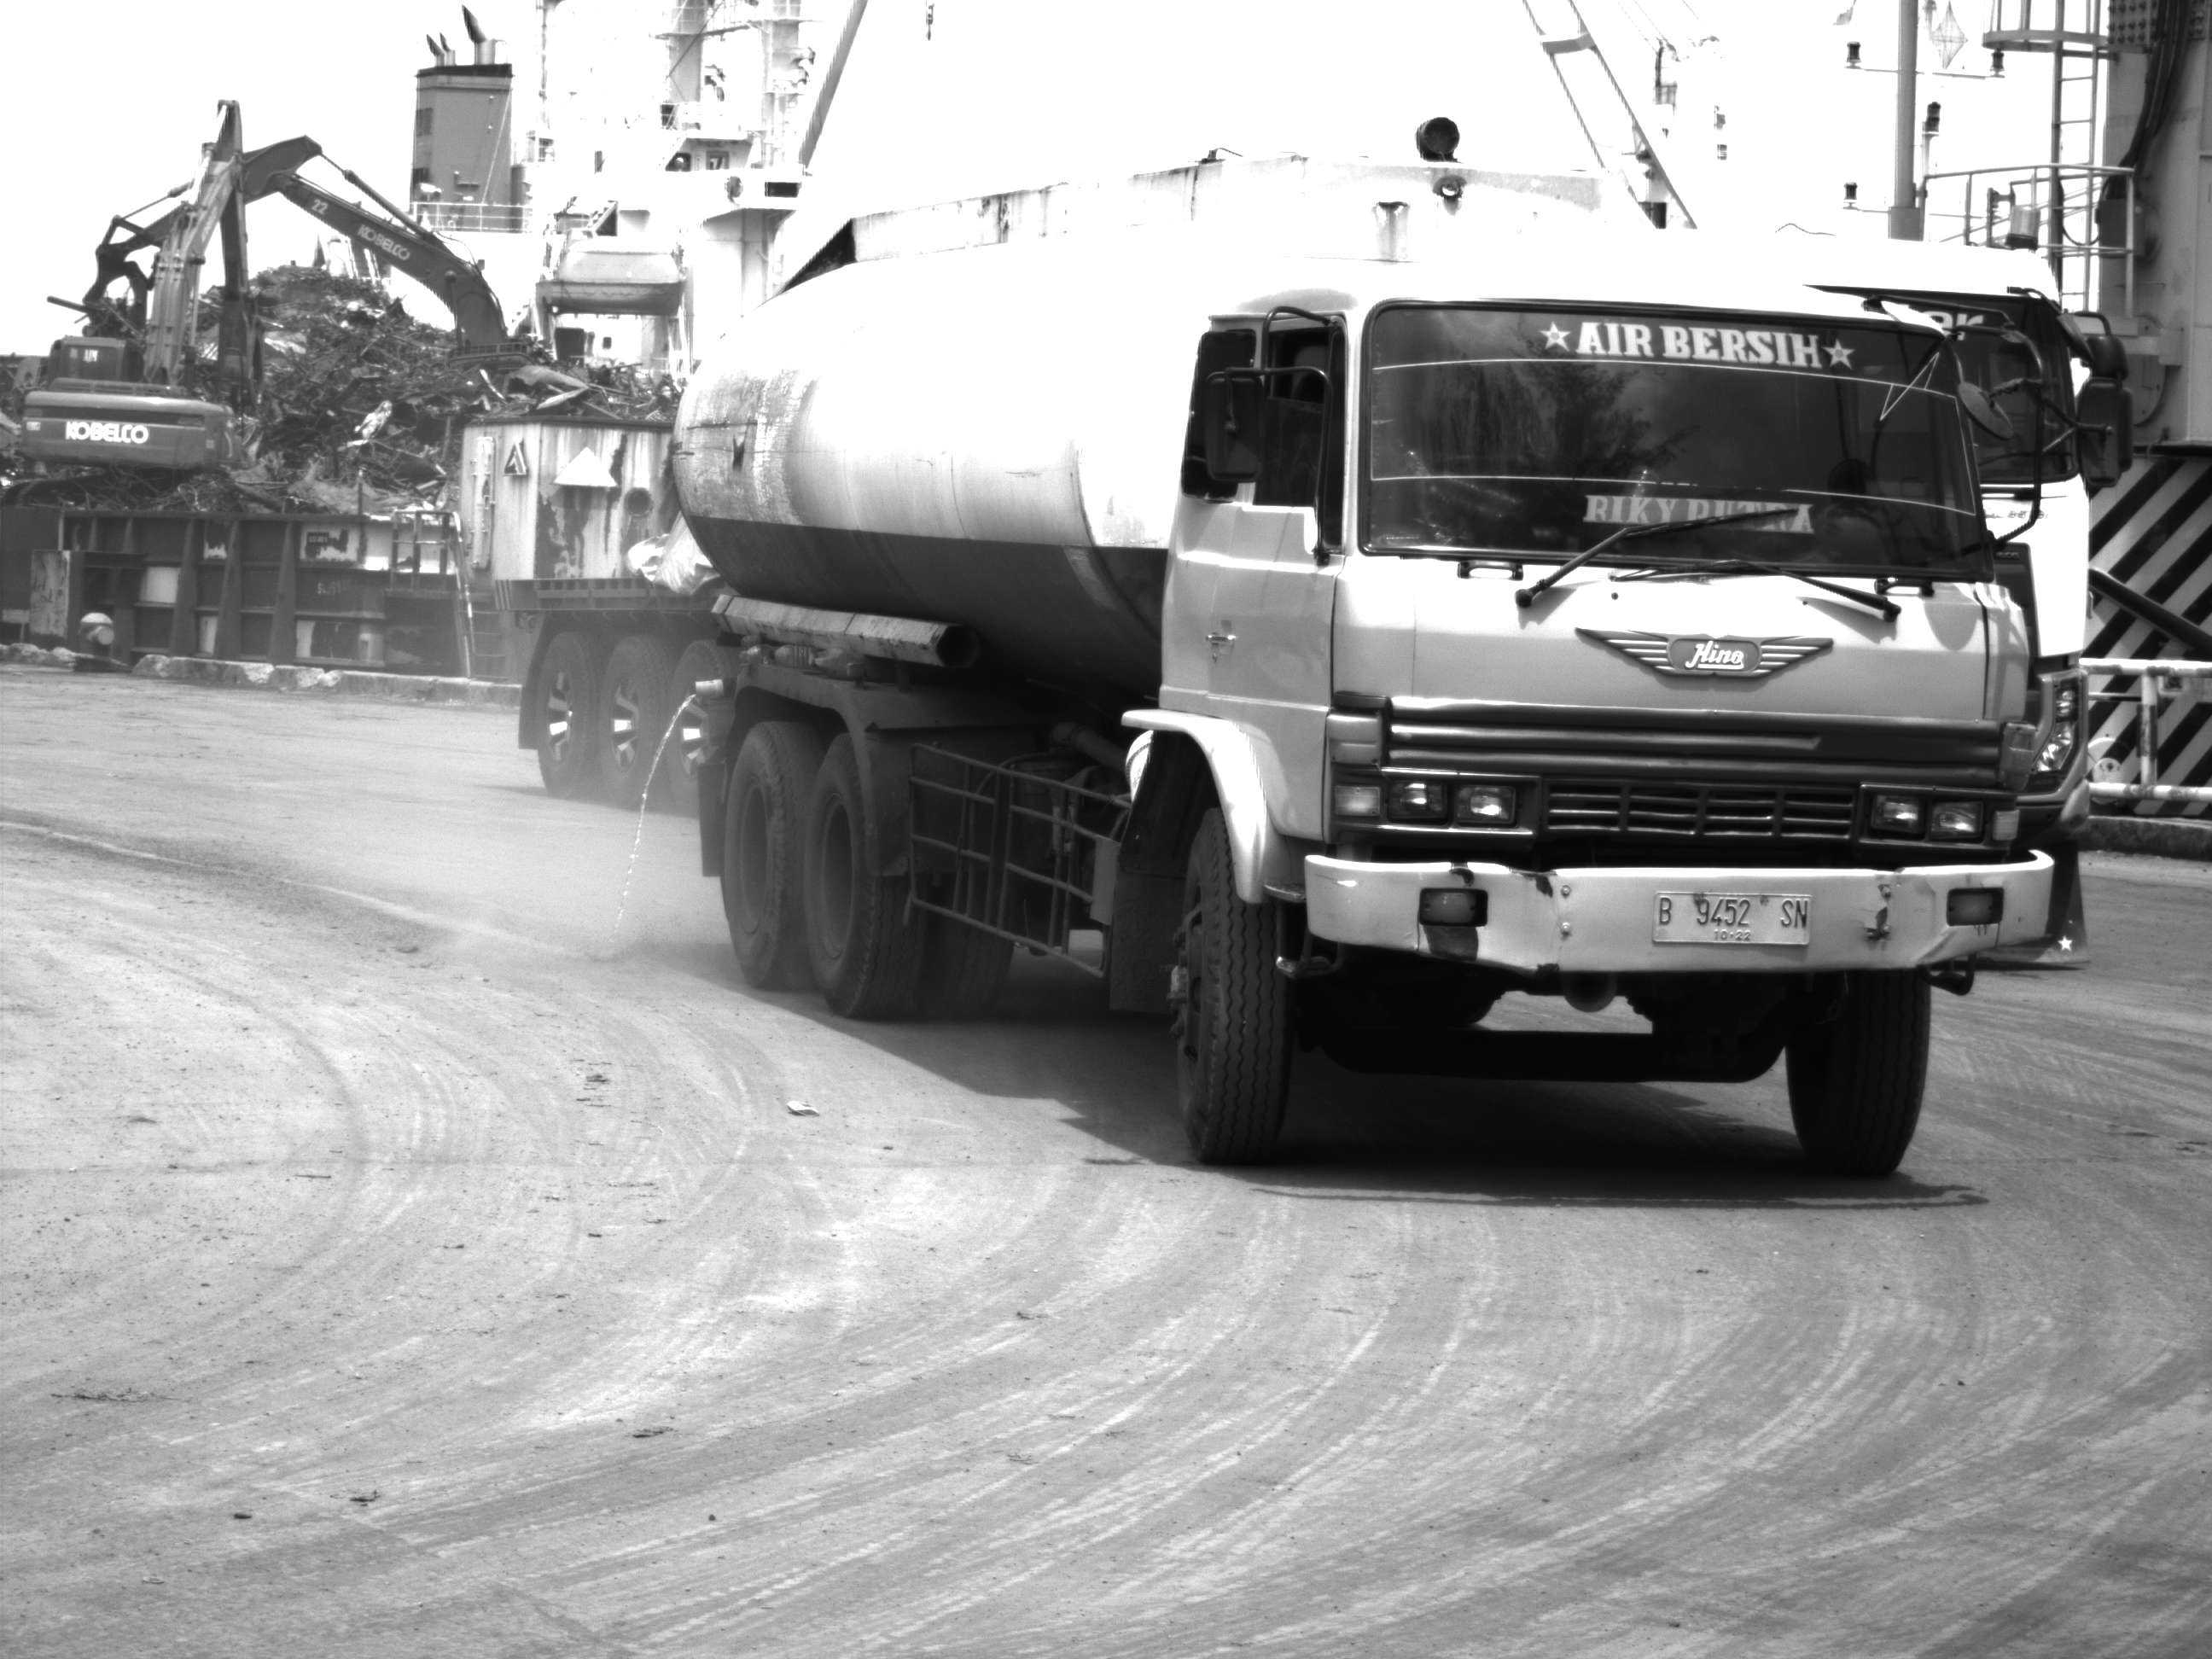day_truck_front: (1179, 294, 2116, 1200)
plate: (1650, 888, 1816, 944)
